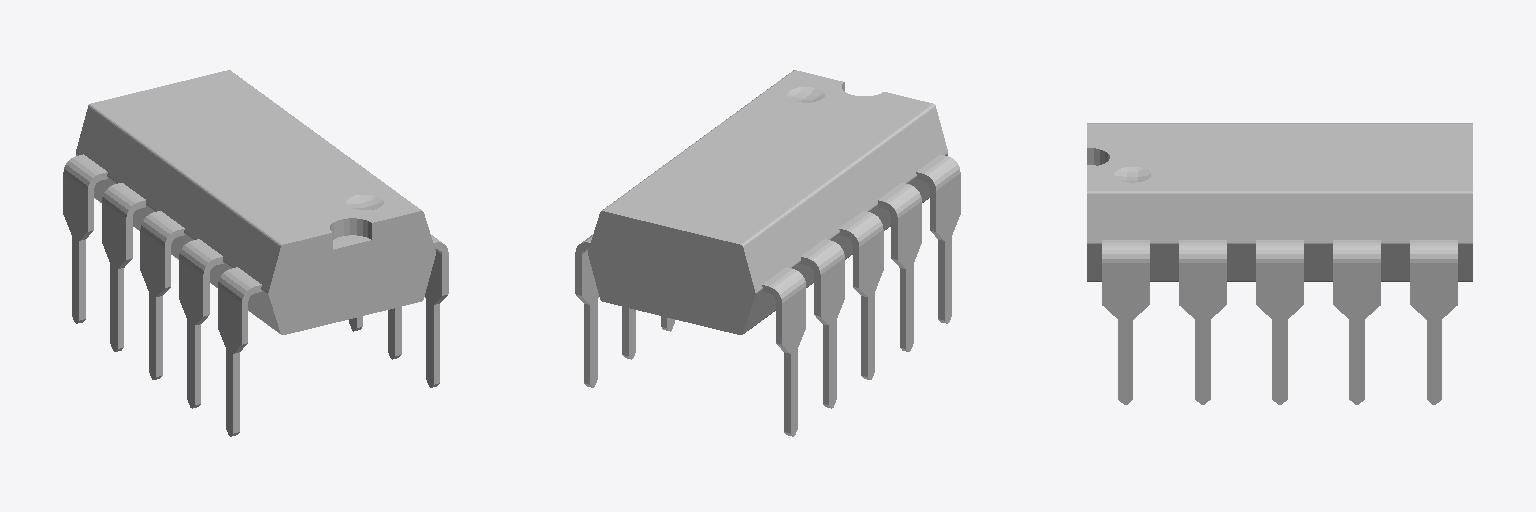
The picture shows the model from 3 angles: view 1: azimuth 30°, elevation 25°; view 2: azimuth 150°, elevation 25°; view 3: azimuth 270°, elevation 25°; orthographic projection.
Visible parts, largest first — view 1: Volumenkörper1; view 2: Volumenkörper1; view 3: Volumenkörper1.
Part boxes in pixels (x1,y1,x2,y2): Volumenkörper1: (63,70,448,436); Volumenkörper1: (575,70,960,436); Volumenkörper1: (1087,123,1472,404).
Size of the model in its own units: 7.87 by 7.17 by 12.7.